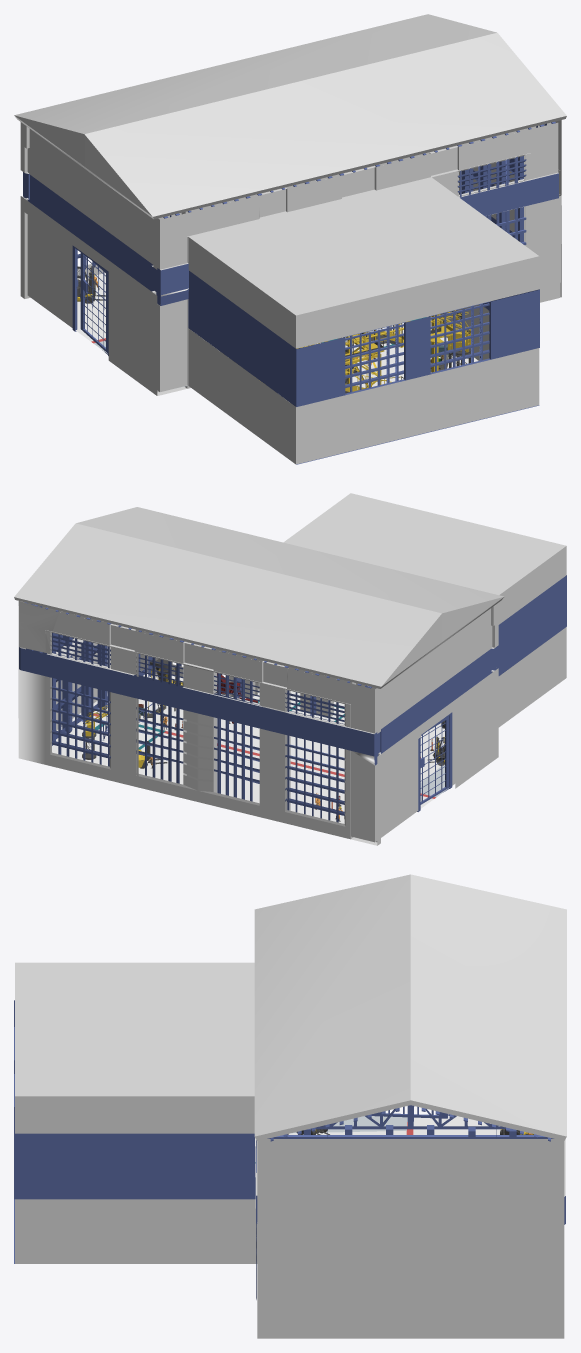
Rendered from factory2.glb.
3 renders of one model, top to bottom at view 1: azimuth 30°, elevation 25°; view 2: azimuth 150°, elevation 25°; view 3: azimuth 270°, elevation 25°, orthographic. The views are drawn at different scales.
Visible parts, largest first — view 1: Cube001_2, Cube001, Cube001_1, Cube004_1, Object_5, Object_457001_1; view 2: Cube001_2, Cube001, Cube001_1, Cube004_1, Object_5; view 3: Cube001_2, Cube001, Cube001_1, Cube004_1, Cube002.
Part boxes in pixels (x1,y1,x2,y2): Cube001_2: [20, 120, 561, 464]; Cube001: [14, 14, 566, 219]; Cube001_1: [23, 123, 558, 464]; Cube004_1: [75, 273, 478, 389]; Object_5: [72, 245, 108, 355]; Object_457001_1: [296, 312, 468, 391]; Cube001_2: [18, 493, 566, 845]; Cube001: [14, 507, 503, 688]; Cube001_1: [19, 575, 566, 822]; Cube004_1: [52, 671, 449, 823]; Object_5: [417, 712, 452, 811]; Cube001_2: [15, 962, 565, 1338]; Cube001: [254, 874, 566, 1140]; Cube001_1: [14, 1000, 565, 1299]; Cube004_1: [255, 1115, 500, 1176]; Cube002: [311, 1105, 505, 1129].
Bounding box in the file's own units: 238 × 119 × 244.
32 materials, 7 textured.
